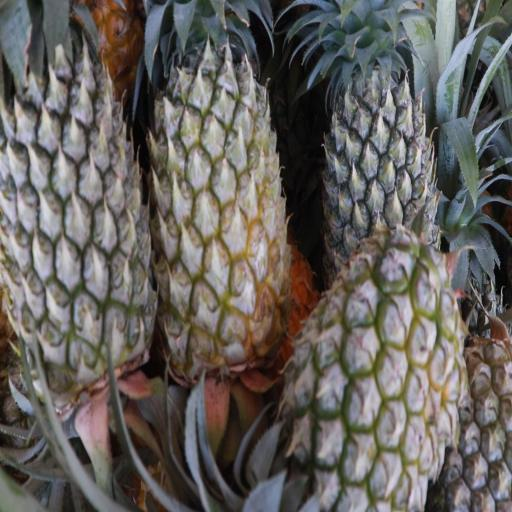------------------------------: (151, 8, 287, 376), (286, 244, 456, 510)
